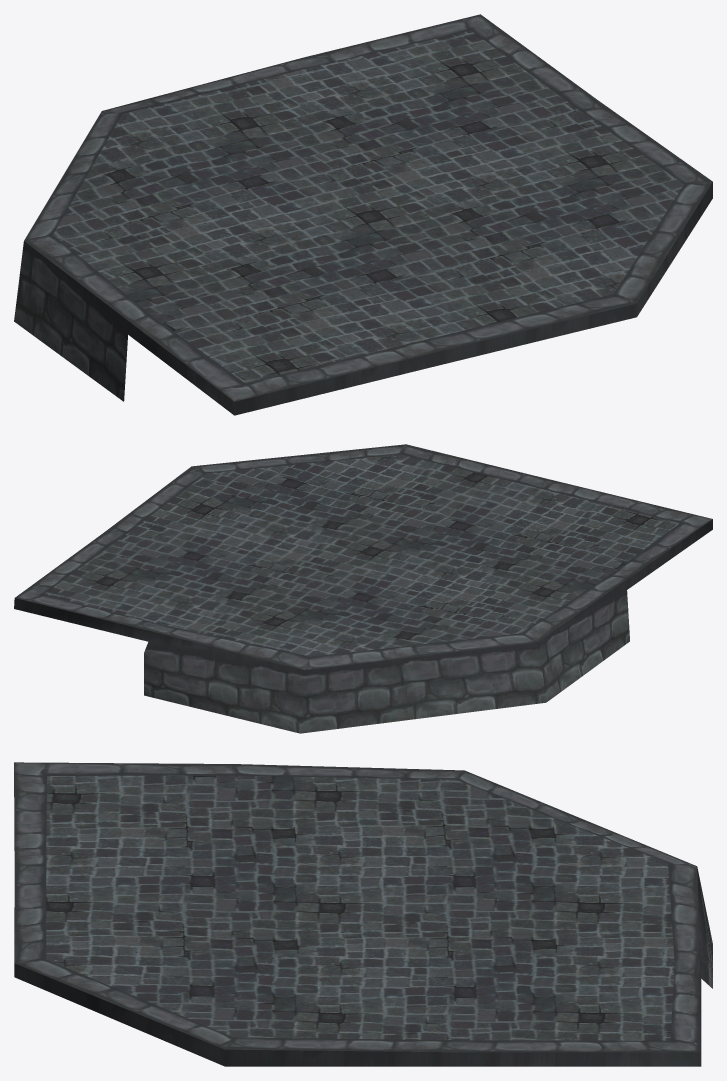
The model's file is menu_terrain_towncenterstone03.fbx.
3 renders of one model, top to bottom at view 1: azimuth 30°, elevation 25°; view 2: azimuth 150°, elevation 25°; view 3: azimuth 270°, elevation 25°, orthographic. The views are drawn at different scales.
Parts seen in each view (by area): view 1: menu_terrain_towncenterstone03-0; view 2: menu_terrain_towncenterstone03-0; view 3: menu_terrain_towncenterstone03-0.
Part boxes in pixels (left/top/right/bottom): menu_terrain_towncenterstone03-0: left=14, top=14, right=712, bottom=415; menu_terrain_towncenterstone03-0: left=14, top=444, right=712, bottom=733; menu_terrain_towncenterstone03-0: left=14, top=762, right=712, bottom=1066.
Size of the model in its own units: 12.32 by 1.68 by 12.54.
